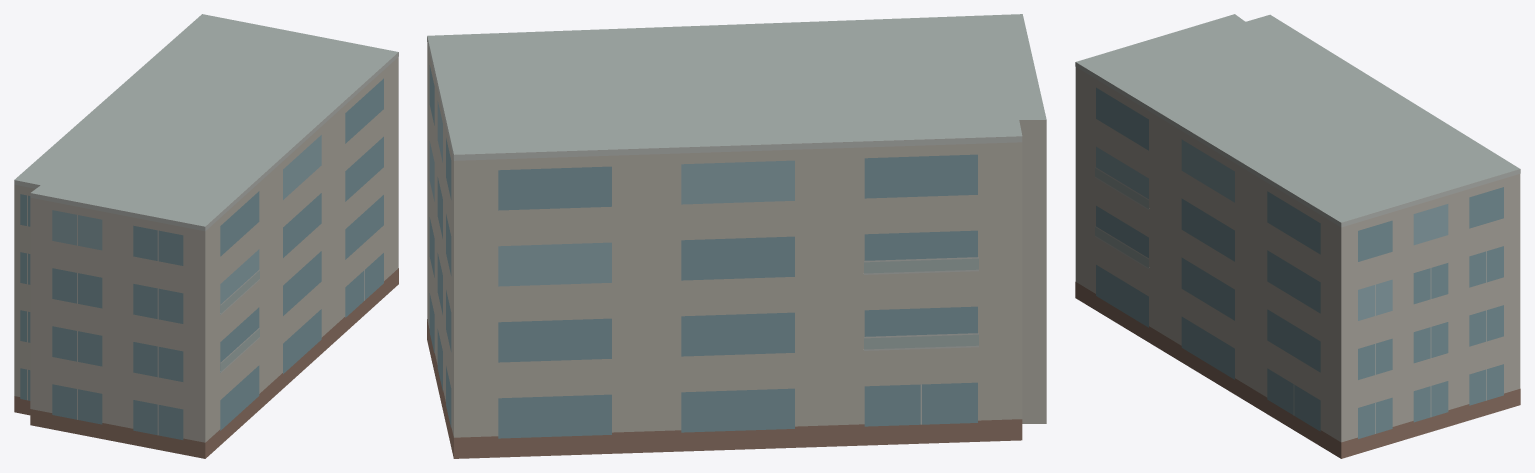
File: survey-upis-32977018.glb
3 views of the same model, side by side, from view 1: azimuth 30°, elevation 25°; view 2: azimuth 150°, elevation 25°; view 3: azimuth 270°, elevation 25° (orthographic). The views are drawn at different scales.
Visible parts, largest first — view 1: survey-upis-32977018.tmp; view 2: survey-upis-32977018.tmp; view 3: survey-upis-32977018.tmp.
Part boxes in pixels (<box>): survey-upis-32977018.tmp: <box>14,14,398,458</box>; survey-upis-32977018.tmp: <box>427,14,1046,458</box>; survey-upis-32977018.tmp: <box>1075,14,1520,458</box>.
Size of the model in its own units: 23.24 by 12.25 by 20.93.
